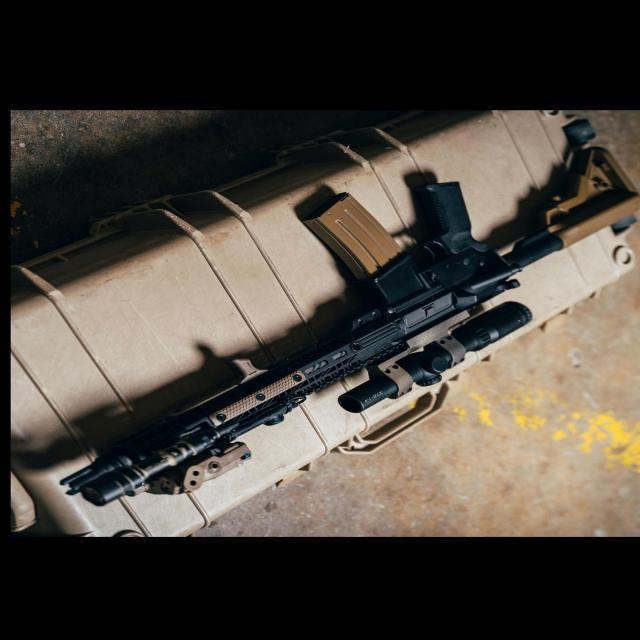weapon: (58, 138, 640, 508)
